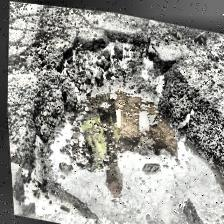pothole: (4, 6, 224, 224)
